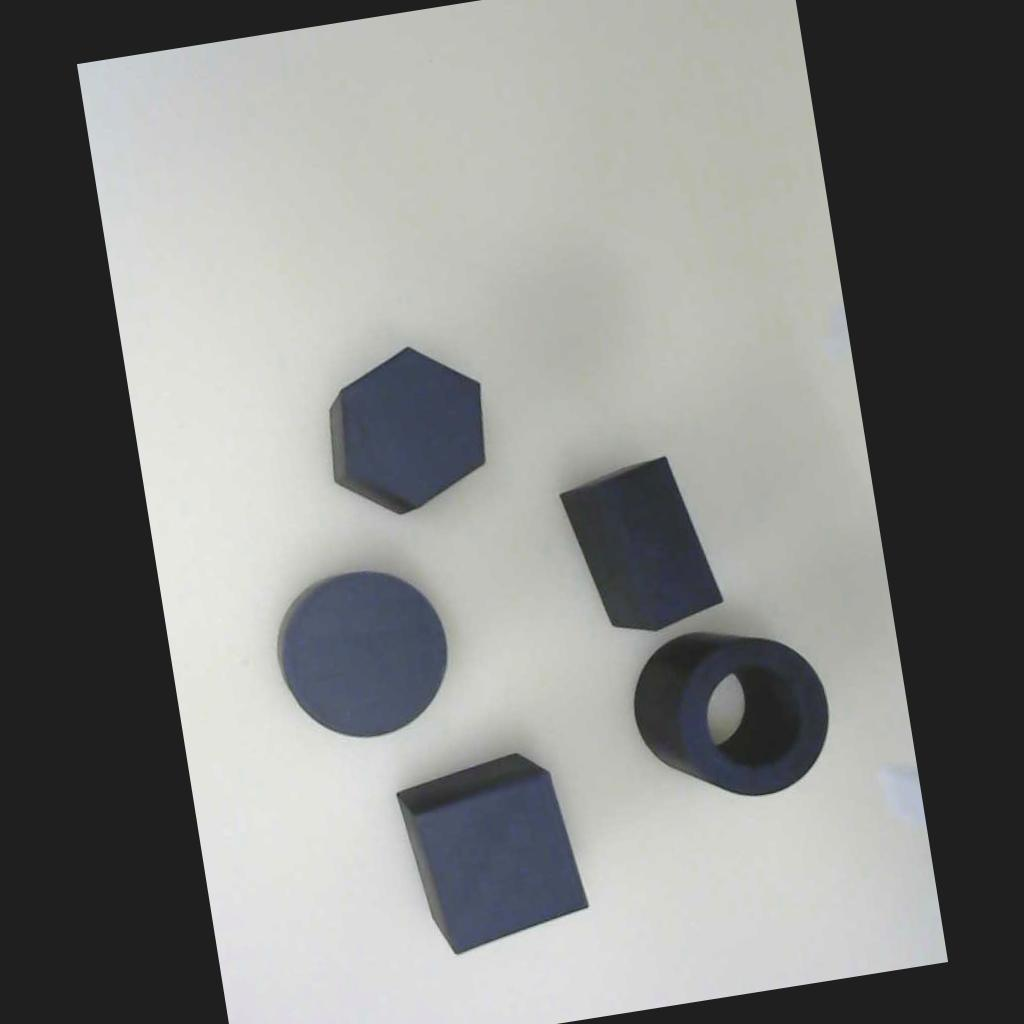circle: (251, 540, 469, 763)
hexagon: (311, 332, 498, 533)
rectangle: (542, 436, 738, 658)
ring: (603, 590, 855, 832)
square: (366, 719, 611, 978)
